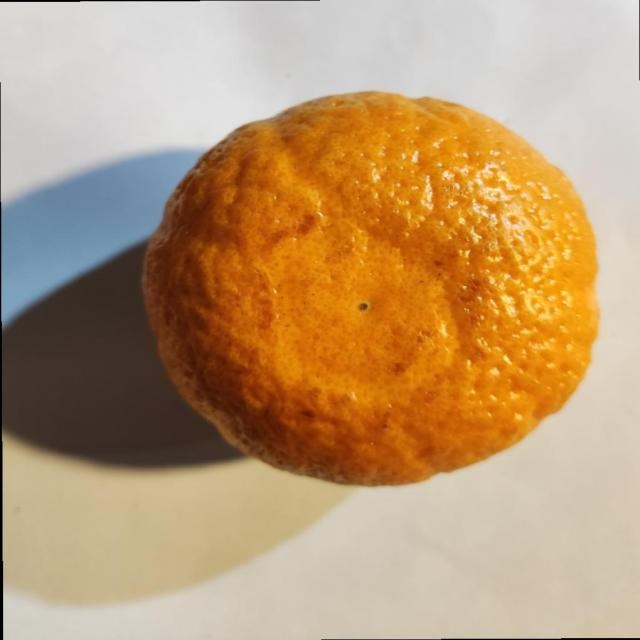agrume: (140, 89, 600, 488)
